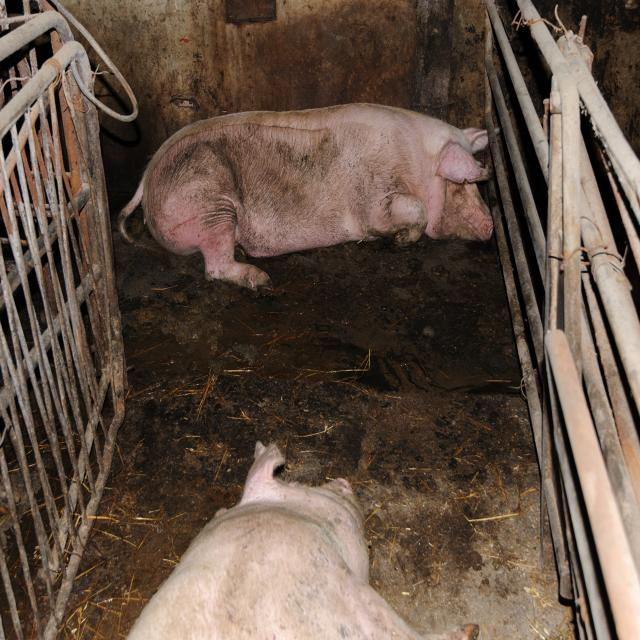pig: (114, 103, 494, 288), (124, 446, 429, 640)
